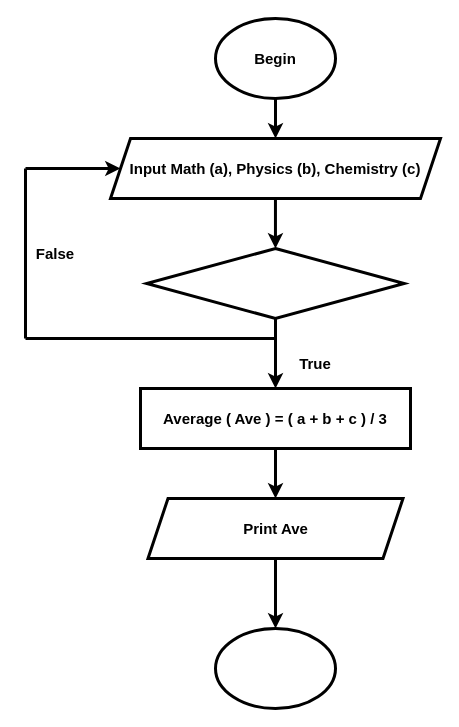
Some shapes in this 459 by 727 pixel diagram are drawn without their labels. The shapes that lost their labels are listed below. From the top down, each one's box as (x1, y1, x2, y2) in pixels, then its label:
(145, 246, 405, 320): 0 <= a, b, c =< 10
(214, 626, 336, 710): End
